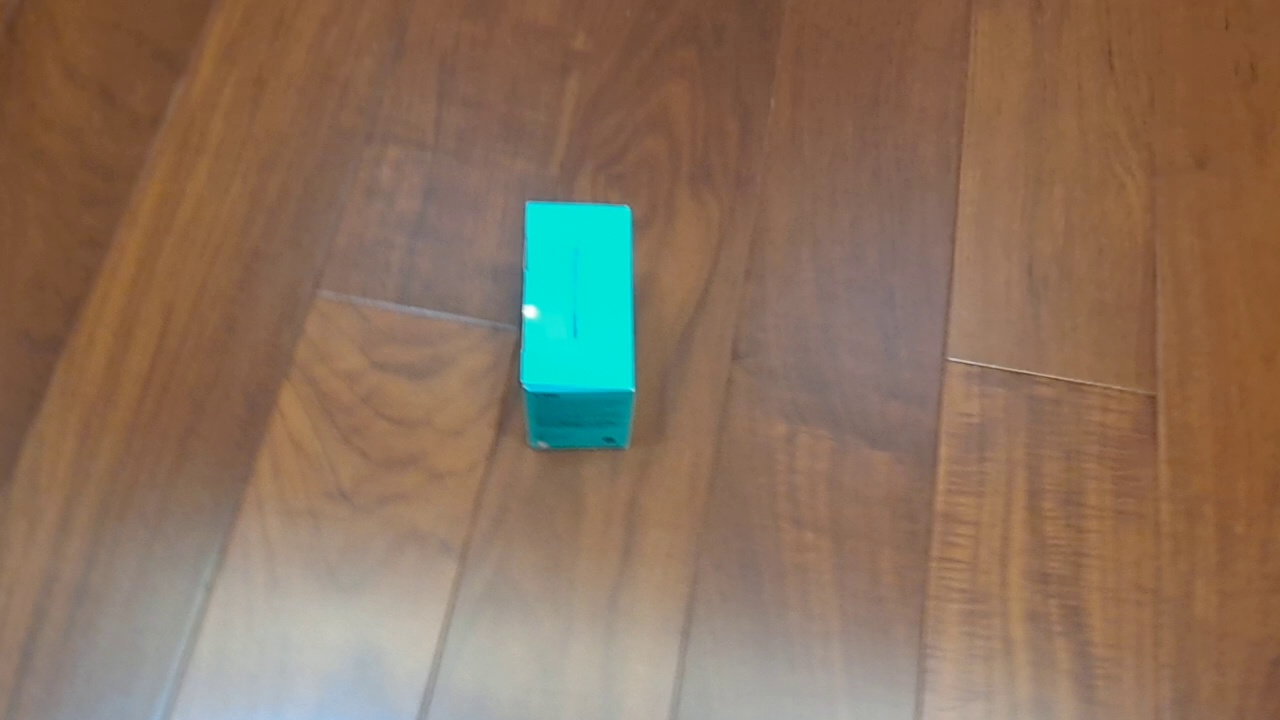webcam: (519, 199, 637, 452)
